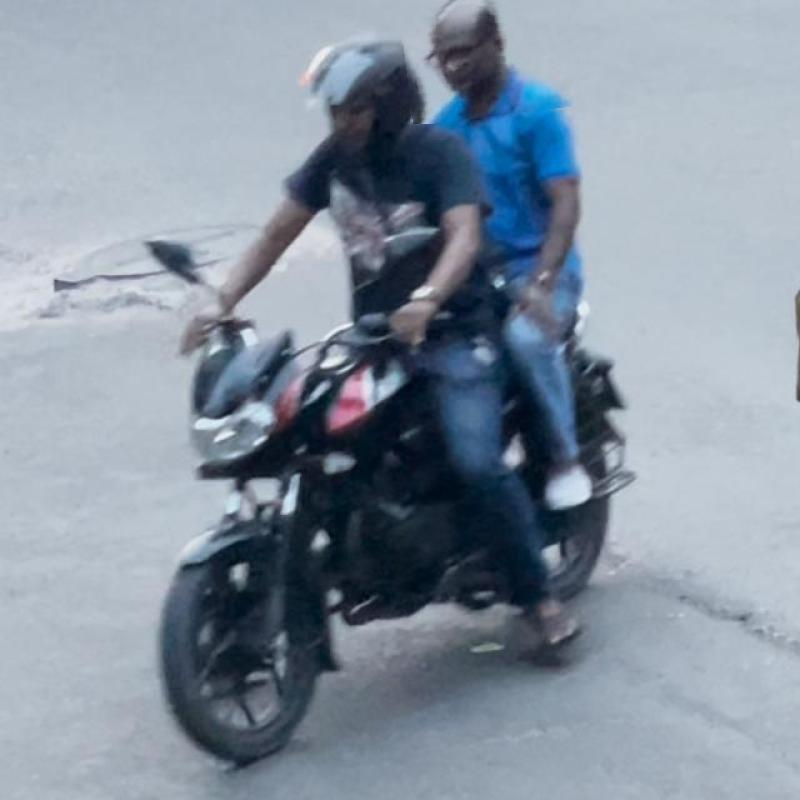nohelmet: (403, 0, 578, 119)
